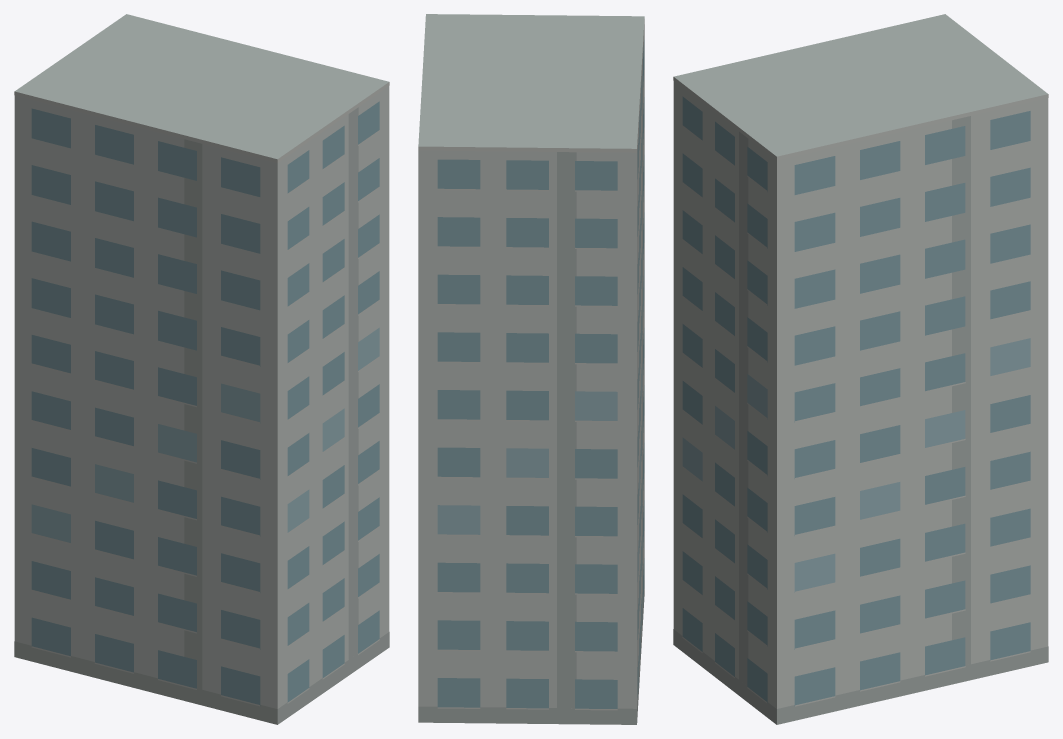
File: residential-97577ec5-0e9c-4fc4-839a-59cad5d62148.glb
3 renders of one model, left to right at view 1: azimuth 30°, elevation 25°; view 2: azimuth 150°, elevation 25°; view 3: azimuth 270°, elevation 25°, orthographic.
Visible parts, largest first — view 1: residential-97577ec5-0e9c-4fc4-839a-59cad5d62148.tmp; view 2: residential-97577ec5-0e9c-4fc4-839a-59cad5d62148.tmp; view 3: residential-97577ec5-0e9c-4fc4-839a-59cad5d62148.tmp.
Part boxes in pixels (x1,y1,x2,y2): residential-97577ec5-0e9c-4fc4-839a-59cad5d62148.tmp: (14,14,389,724); residential-97577ec5-0e9c-4fc4-839a-59cad5d62148.tmp: (418,14,644,724); residential-97577ec5-0e9c-4fc4-839a-59cad5d62148.tmp: (673,14,1048,724).
Bounding box in the file's own units: 18.86 × 35 × 20.94.
